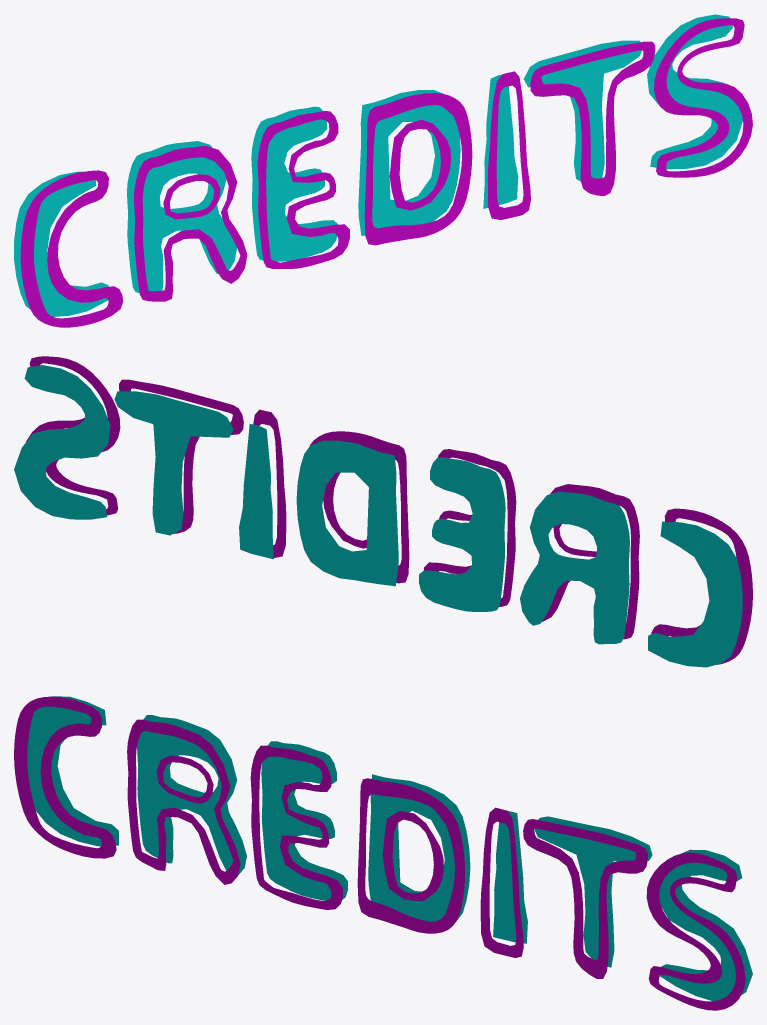
File: mesh_text_credits.fbx
3 views of the same model, one above another, from view 1: azimuth 30°, elevation 25°; view 2: azimuth 150°, elevation 25°; view 3: azimuth 330°, elevation 25° (orthographic).
Parts seen in each view (by area): view 1: mesh_text_credits, mesh_text_credits1; view 2: mesh_text_credits, mesh_text_credits1; view 3: mesh_text_credits, mesh_text_credits1.
Part boxes in pixels (x1,y1,x2,y2): mesh_text_credits: (14, 14, 742, 316); mesh_text_credits1: (20, 18, 752, 327); mesh_text_credits: (14, 365, 742, 667); mesh_text_credits1: (26, 356, 752, 664); mesh_text_credits: (27, 696, 752, 1001); mesh_text_credits1: (14, 696, 745, 1010).
Bounding box in the file's own units: 0.1062 × 0.0221 × 0.00212.
